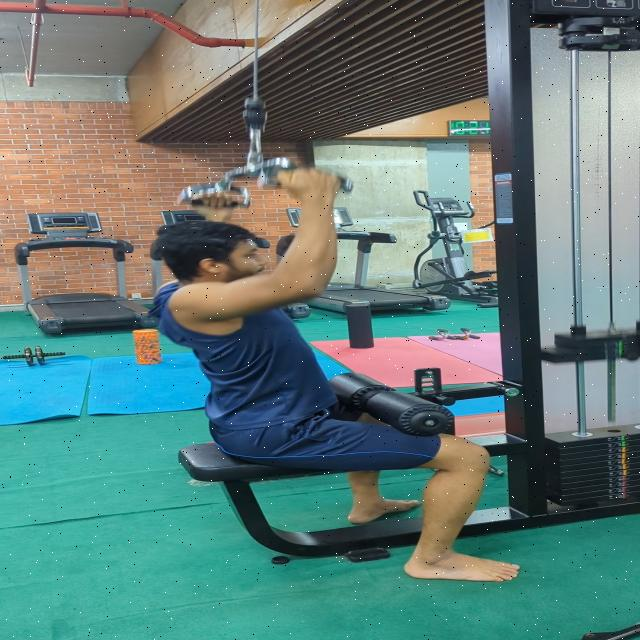Normal_LatPulldown: (127, 160, 554, 585)
